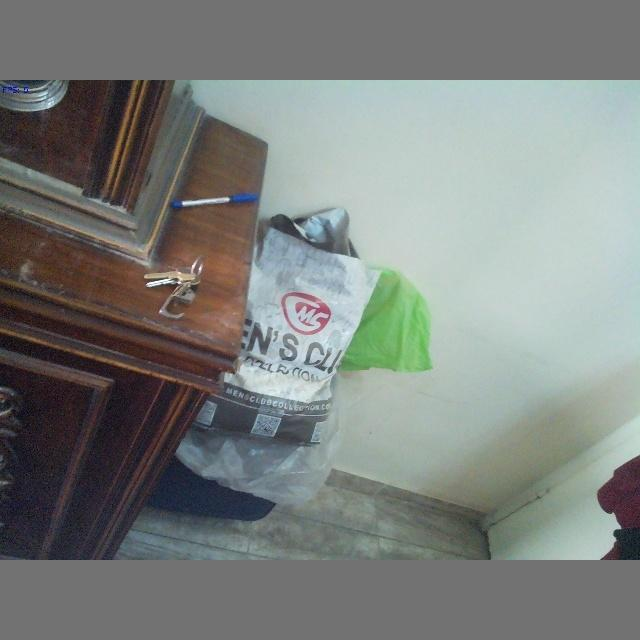Keys: (140, 254, 210, 322)
